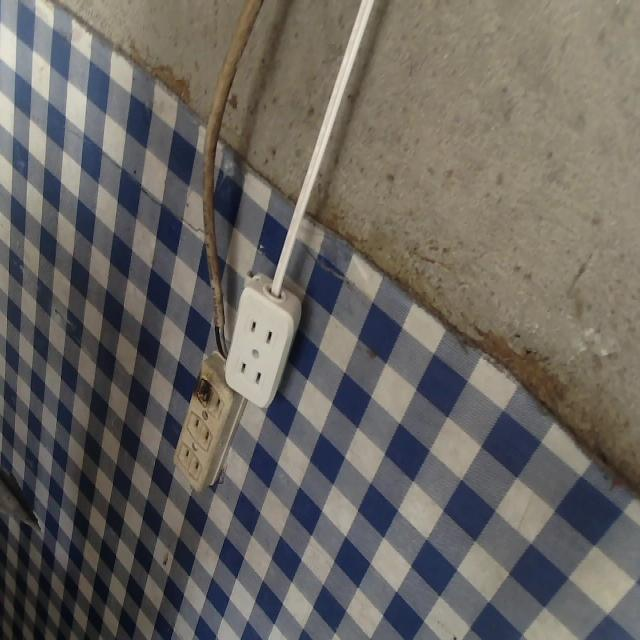-: (190, 368, 215, 411)
